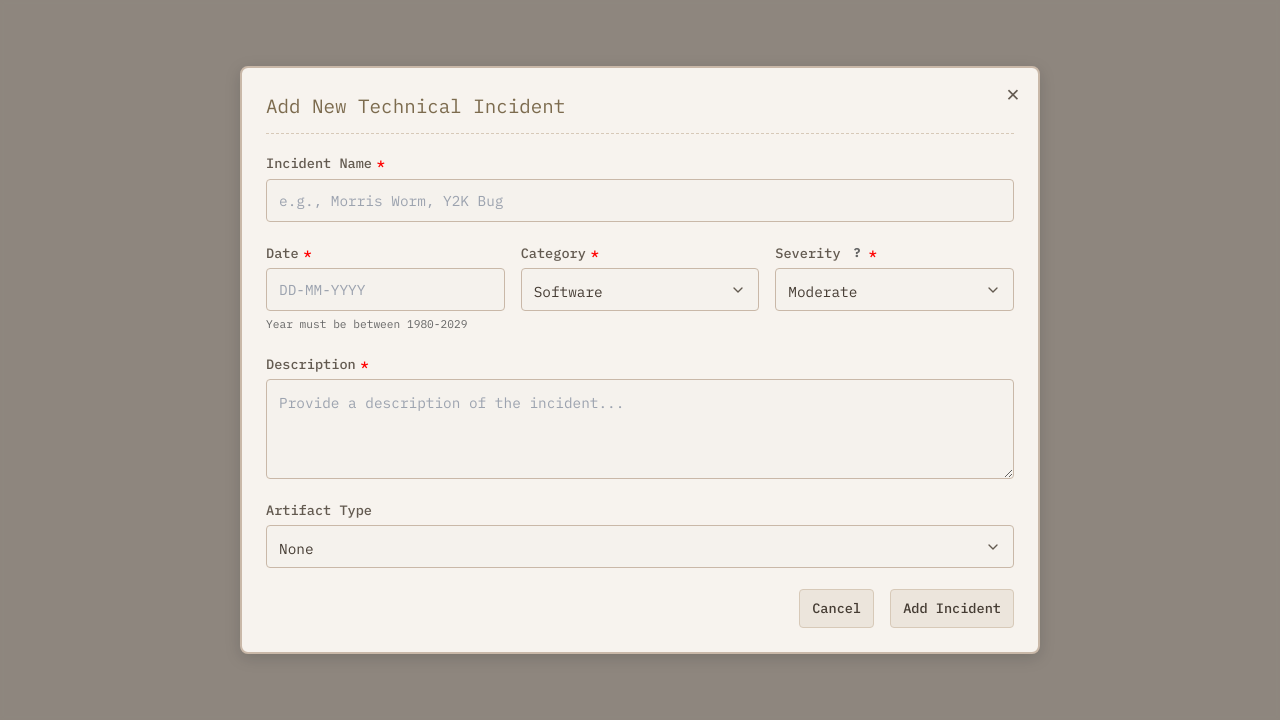
IncidentModals › Add Incident Modal › shows severity info popup when ? button is clicked
The image size is (1280, 720).
Click the button titled "View severity level descriptions". click: (857, 253)
box: [850,243,864,262]
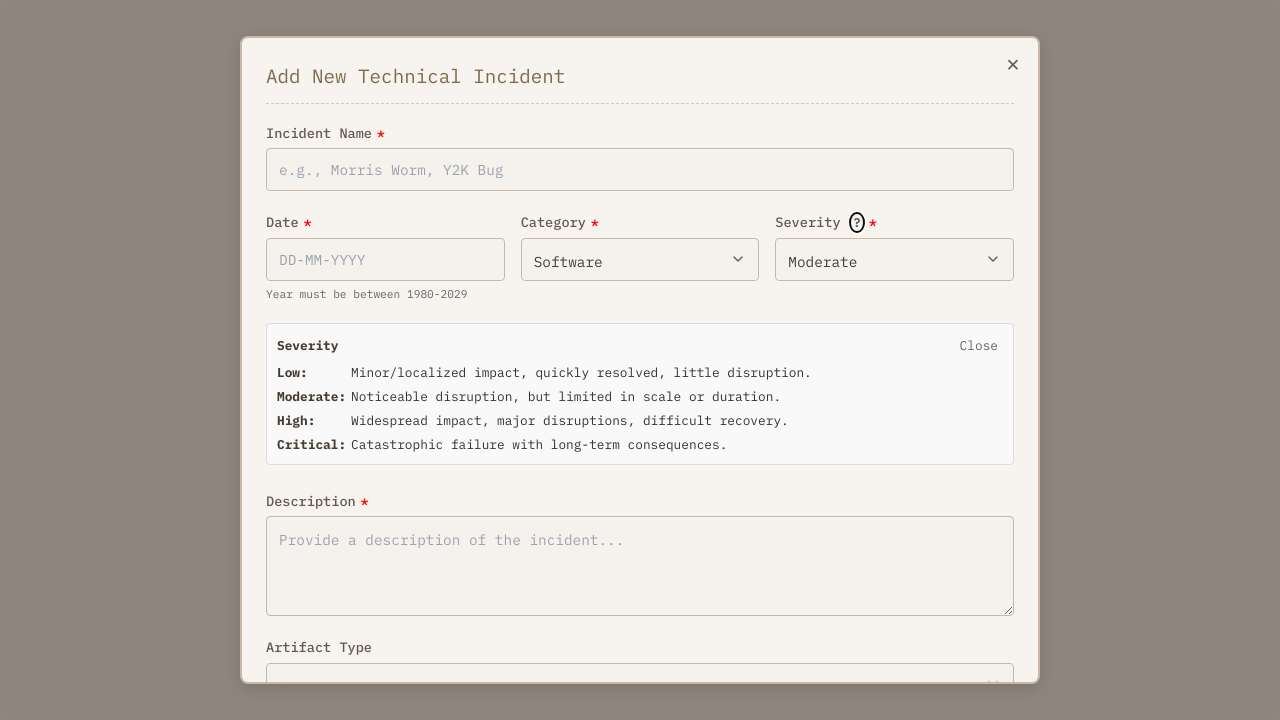
Now the text "Minor/localized impact, quickly resolved, little disruption." is shown, box [351,364,812,380]
